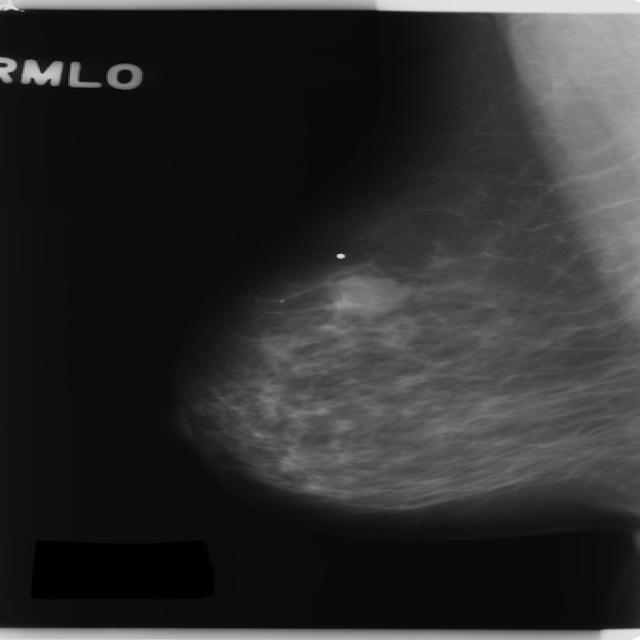tumour: (324, 274, 401, 318)
